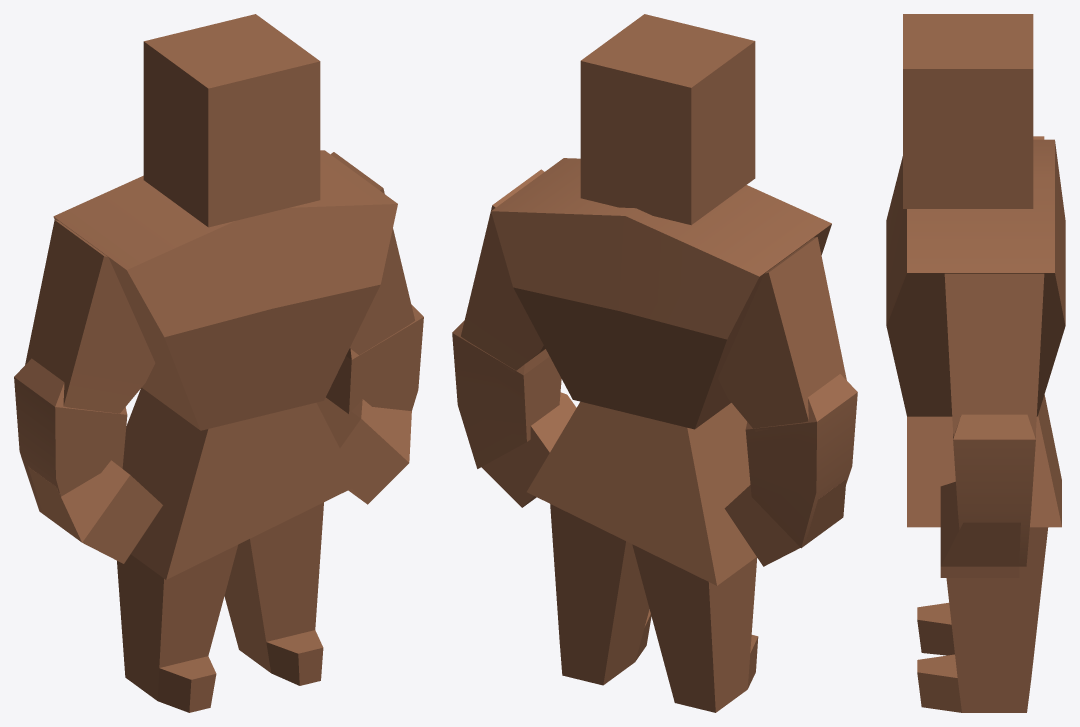
File: SK_Barbarian.fbx
3 views of the same model, side by side, from view 1: azimuth 30°, elevation 25°; view 2: azimuth 150°, elevation 25°; view 3: azimuth 270°, elevation 25° (orthographic).
Parts seen in each view (by area): view 1: Barbarian_GEO; view 2: Barbarian_GEO; view 3: Barbarian_GEO.
Part boxes in pixels (x1,y1,x2,y2): Barbarian_GEO: [14, 14, 423, 712]; Barbarian_GEO: [452, 14, 857, 712]; Barbarian_GEO: [886, 14, 1065, 712].
Bounding box in the file's own units: 1.7 × 2.77 × 0.7092.
